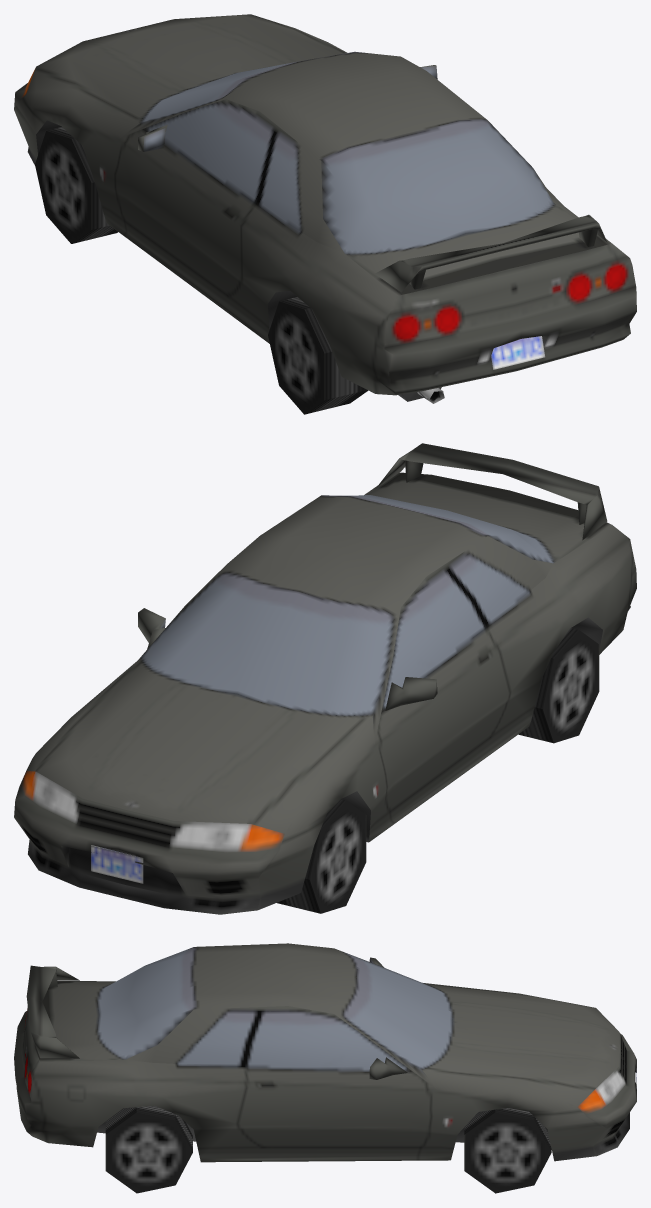
File: fhqDiecast18R32GTR.fbx
3 renders of one model, top to bottom at view 1: azimuth 30°, elevation 25°; view 2: azimuth 150°, elevation 25°; view 3: azimuth 270°, elevation 25°, orthographic. The views are drawn at different scales.
Parts seen in each view (by area): view 1: fhqR32GTRExport2; view 2: fhqR32GTRExport2; view 3: fhqR32GTRExport2.
Boxes of the visible parts, x1,y1,x2,y2 form: fhqR32GTRExport2: [14, 14, 636, 414]; fhqR32GTRExport2: [14, 443, 636, 914]; fhqR32GTRExport2: [14, 943, 636, 1193].
Size of the model in its own units: 0.2117 by 0.1523 by 0.4991.
